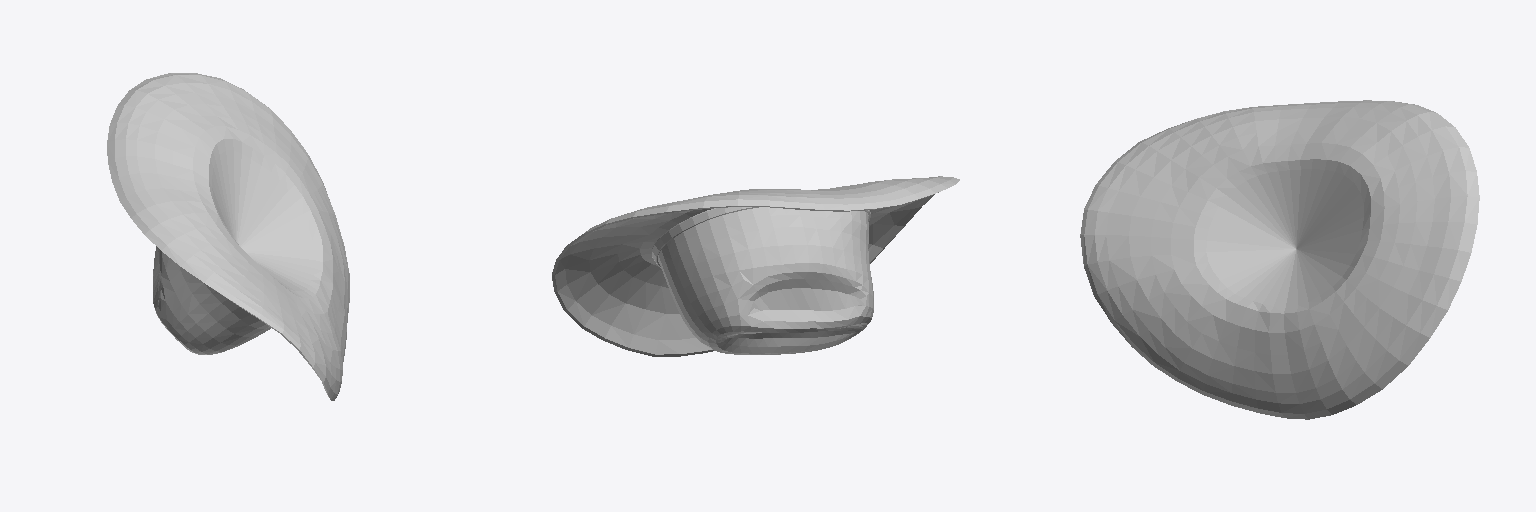
The model's file is hat.obj.
3 renders of one model, left to right at view 1: azimuth 30°, elevation 25°; view 2: azimuth 150°, elevation 25°; view 3: azimuth 270°, elevation 25°, orthographic.
Visible parts, largest first — view 1: dynamic; view 2: dynamic; view 3: dynamic.
Boxes of the visible parts, box(x1,y1,x2,y2) form: dynamic: box(107, 73, 349, 400); dynamic: box(552, 176, 959, 356); dynamic: box(1080, 100, 1479, 419).
Bounding box in the file's own units: 17.41 × 14.55 × 21.55.